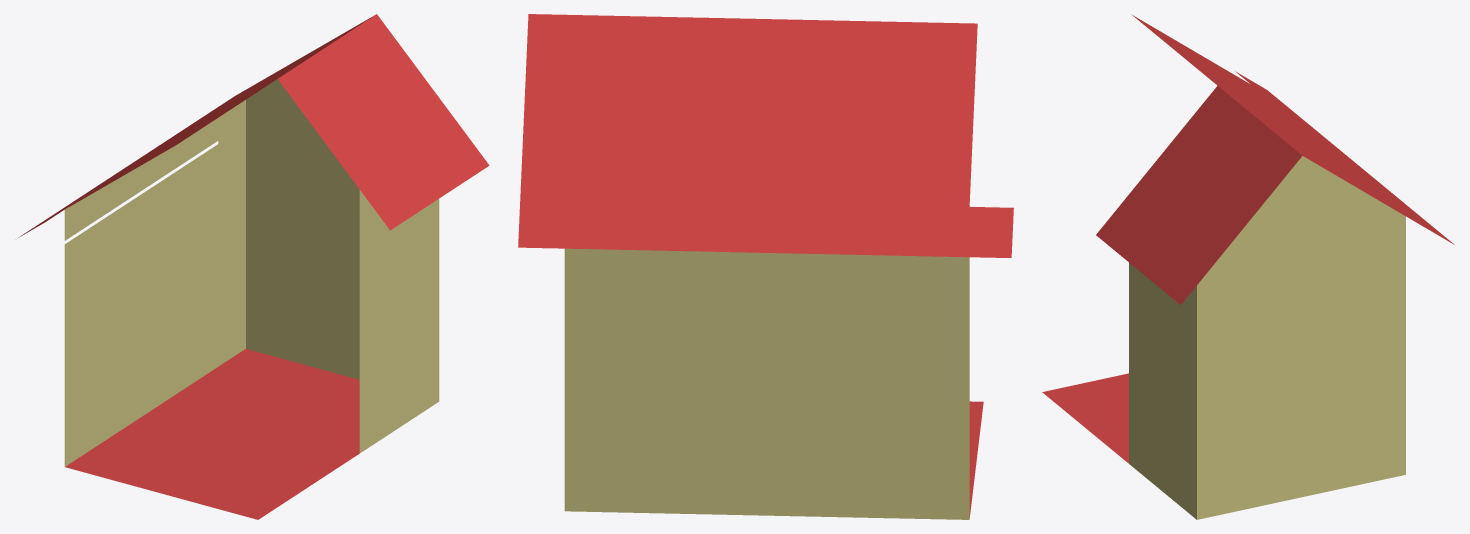
3 views of the same model, side by side, from view 1: azimuth 30°, elevation 25°; view 2: azimuth 150°, elevation 25°; view 3: azimuth 270°, elevation 25° (orthographic). The views are drawn at different scales.
Size of the model in its own units: 13.71 by 11.14 by 10.66.
